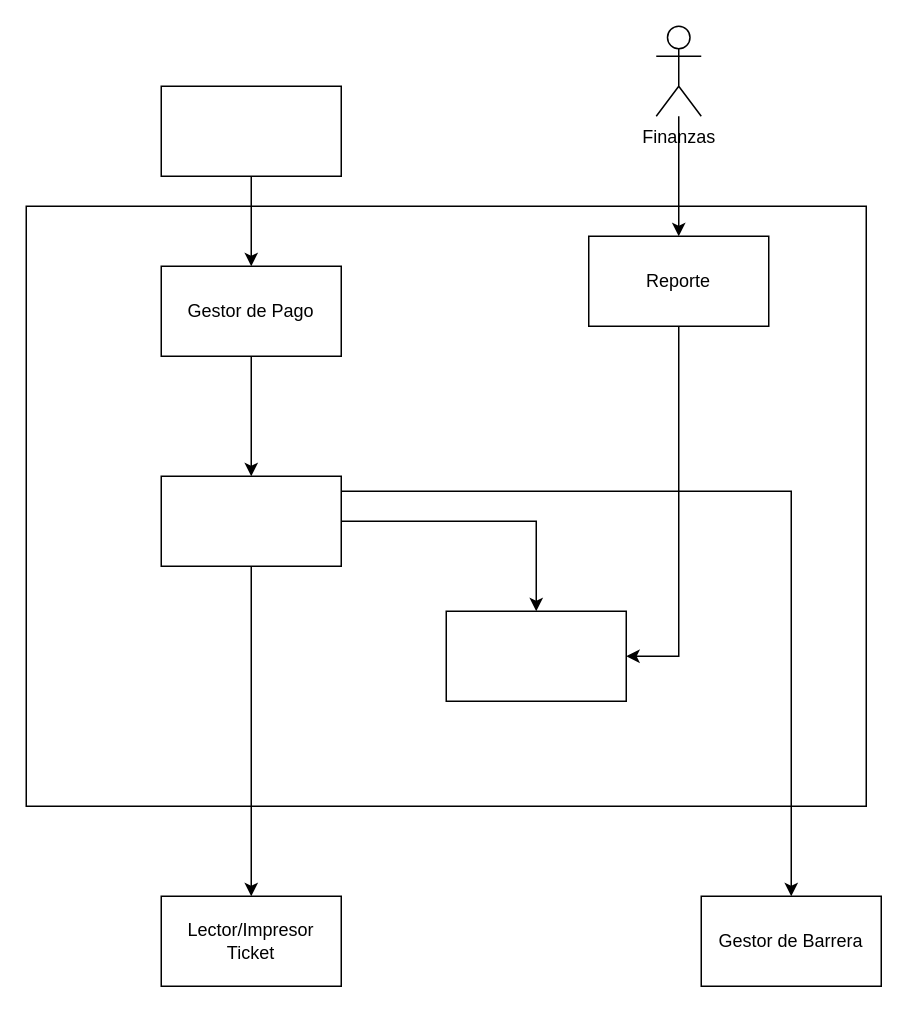
This 908x1013 diagram has some shape labels left out. The box of each missing label's shape, as (x1, y1, x2, y2) in pixels:
Caja: (160, 85, 341, 176)
DB: (445, 610, 626, 701)
Gestor de Tickets: (160, 475, 341, 566)
